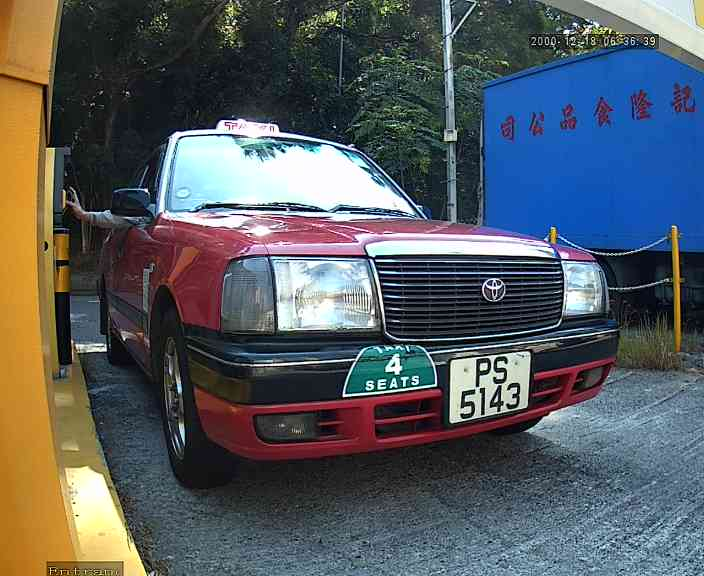taxi: (68, 100, 643, 516)
taxi_mark: (335, 331, 441, 408)
